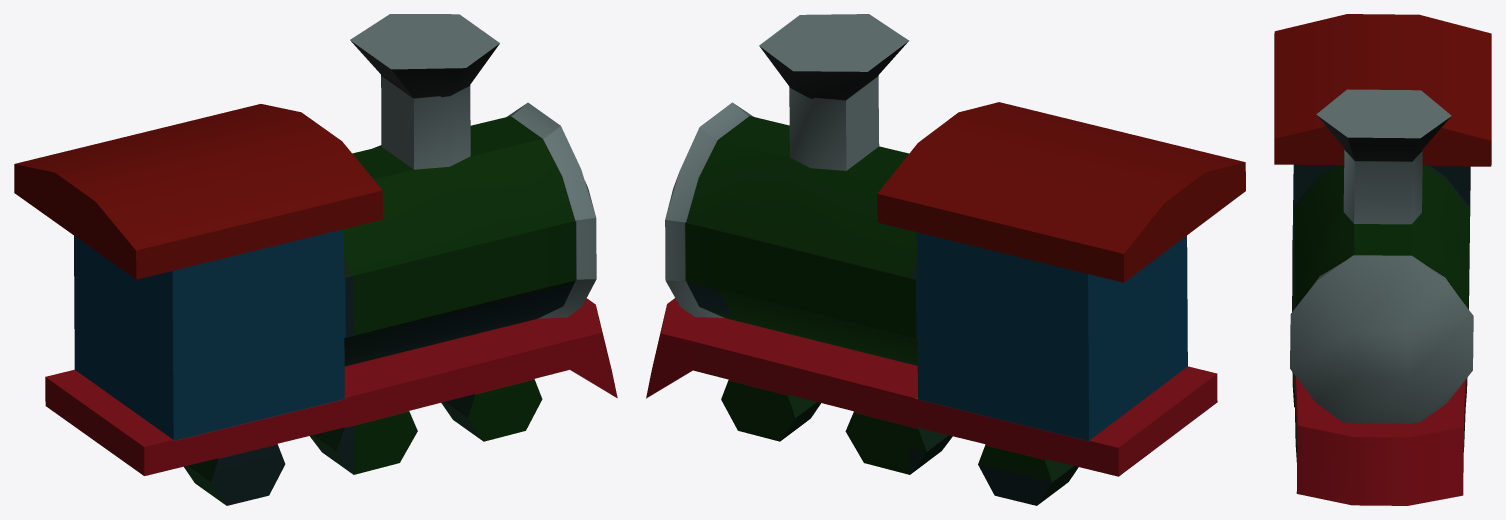
The model's file is train.fbx.
3 views of the same model, side by side, from view 1: azimuth 30°, elevation 25°; view 2: azimuth 150°, elevation 25°; view 3: azimuth 270°, elevation 25° (orthographic). The views are drawn at different scales.
Parts seen in each view (by area): view 1: trainModel; view 2: trainModel; view 3: trainModel.
Boxes of the visible parts, x1,y1,x2,y2 form: trainModel: (14, 14, 617, 505); trainModel: (646, 14, 1245, 505); trainModel: (1274, 14, 1491, 505).
Bounding box in the file's own units: 3.03 × 2.06 × 1.23.
1 material, 1 textured.
